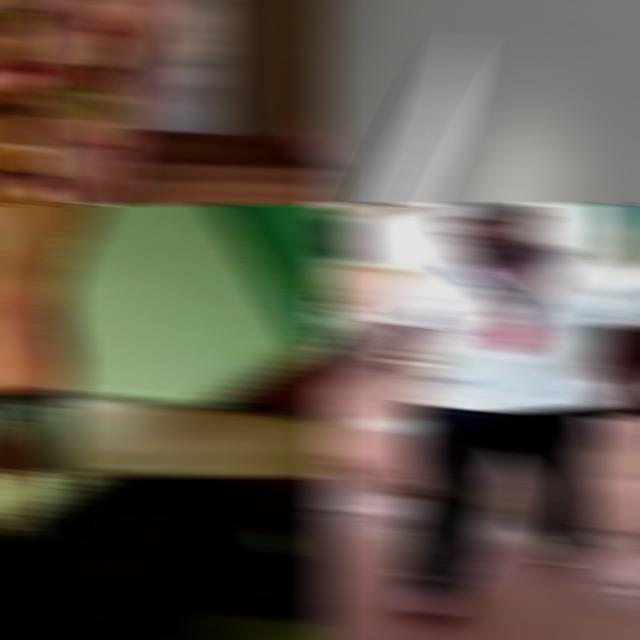Knife: (362, 32, 478, 204), (598, 414, 628, 456)
Knife_Handle: (0, 265, 335, 548), (591, 397, 640, 460)
